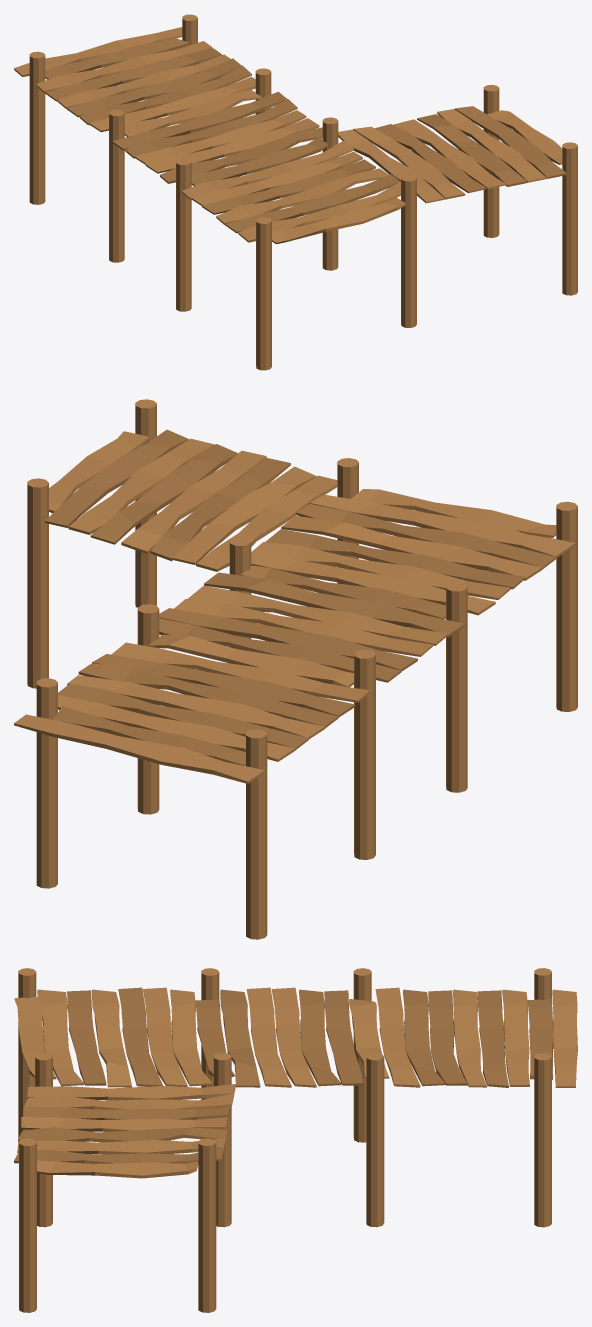
Rendered from Steg.fbx.
The picture shows the model from 3 angles, top to bottom: view 1: azimuth 30°, elevation 25°; view 2: azimuth 150°, elevation 25°; view 3: azimuth 270°, elevation 25°; orthographic projection. The views are drawn at different scales.
Visible parts, largest first — view 1: Steg; view 2: Steg; view 3: Steg.
Boxes of the visible parts, box(x1,y1,x2,y2) form: Steg: box(14, 14, 577, 370); Steg: box(14, 399, 577, 939); Steg: box(14, 968, 577, 1312).
Bounding box in the file's own units: 10.28 × 4.35 × 13.31.
